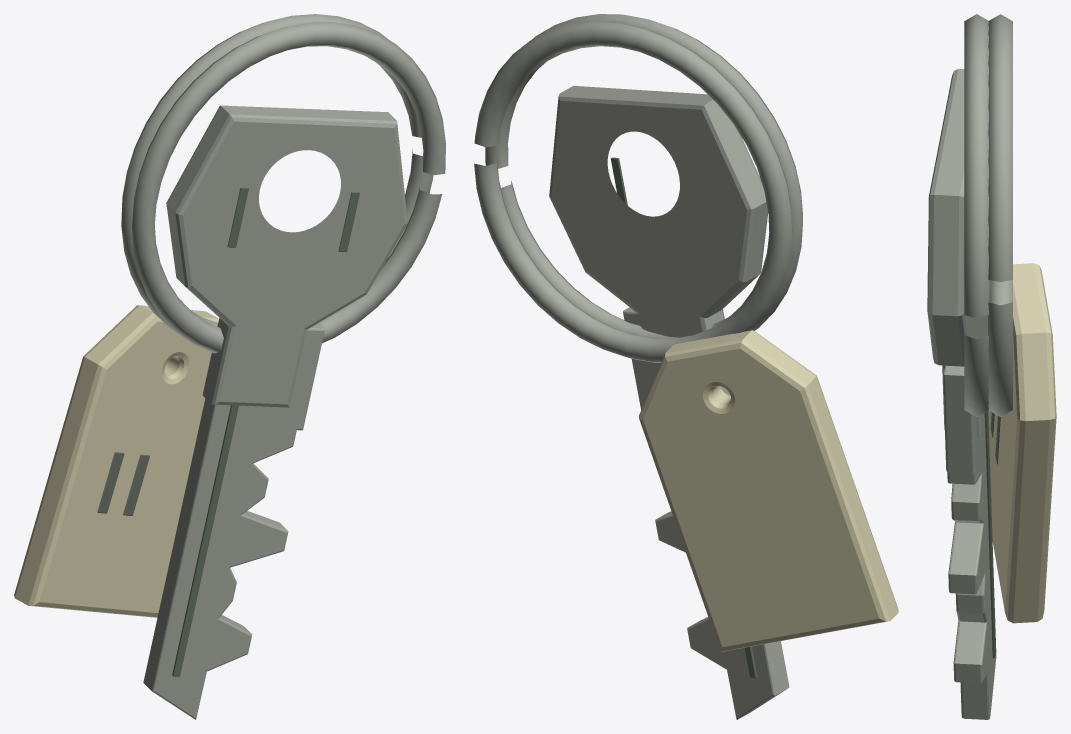
Rendered from chapel-key.glb.
3 renders of one model, left to right at view 1: azimuth 30°, elevation 25°; view 2: azimuth 150°, elevation 25°; view 3: azimuth 270°, elevation 25°, orthographic. The views are drawn at different scales.
Visible parts, largest first — view 1: chapel-key; view 2: chapel-key; view 3: chapel-key.
Boxes of the visible parts, box(x1,y1,x2,y2) form: chapel-key: box(14, 14, 445, 719); chapel-key: box(474, 14, 898, 719); chapel-key: box(927, 14, 1056, 719).
Size of the model in its own units: 0.6986 by 1.07 by 0.1692.
